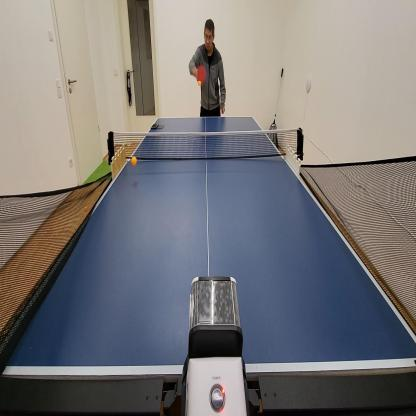Ball: (130, 154, 138, 167), (84, 205, 89, 213), (198, 78, 201, 86)
